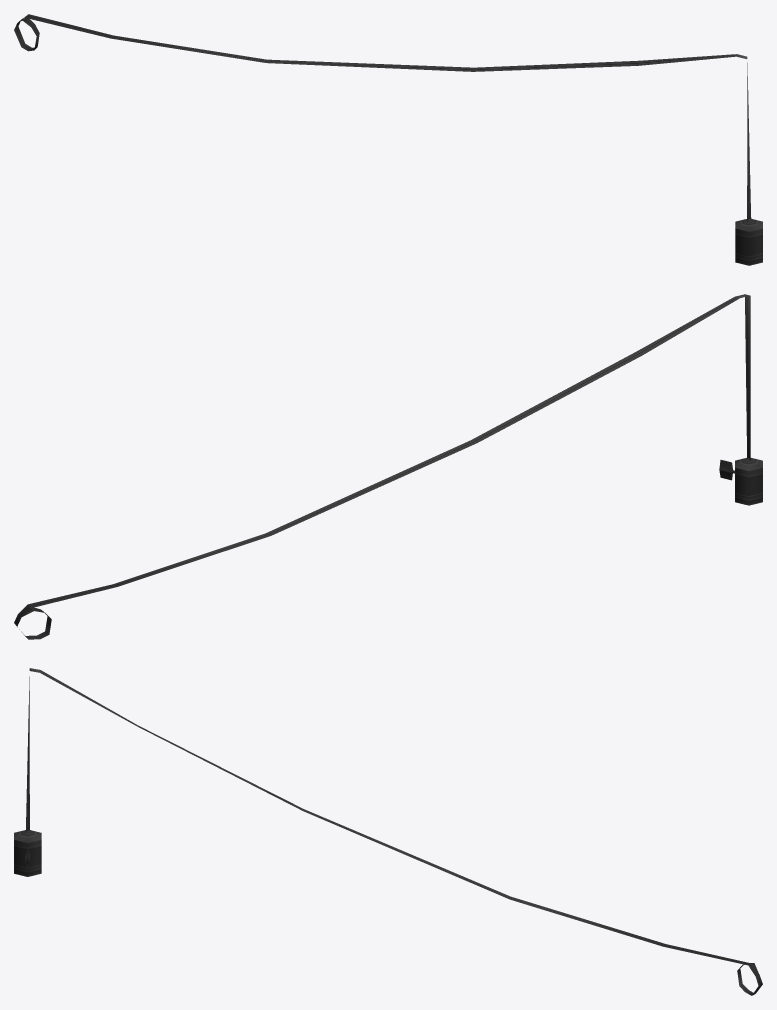
File: jsf_2P_Light_s02_b.fbx
3 views of the same model, one above another, from view 1: azimuth 90°, elevation 25°; view 2: azimuth 150°, elevation 25°; view 3: azimuth 270°, elevation 25° (orthographic).
Visible parts, largest first — view 1: jsf_2P_Light_s02_b; view 2: jsf_2P_Light_s02_b; view 3: jsf_2P_Light_s02_b.
Boxes of the visible parts, box(x1,y1,x2,y2) form: jsf_2P_Light_s02_b: box(14, 14, 762, 265); jsf_2P_Light_s02_b: box(14, 294, 762, 639); jsf_2P_Light_s02_b: box(14, 668, 762, 995).
Size of the model in its own units: 44.38 by 23.05 by 77.69.
